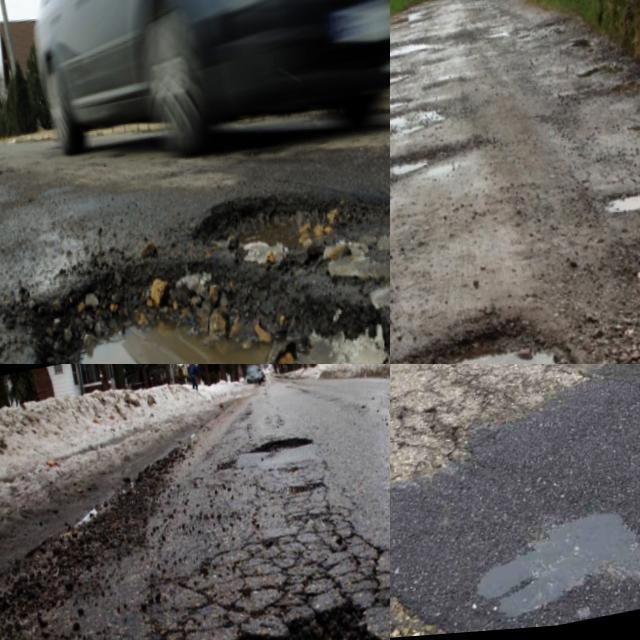Potholes: (0, 206, 390, 364), (133, 532, 390, 640), (505, 364, 640, 482), (390, 301, 594, 364), (390, 15, 472, 117), (241, 408, 329, 497), (390, 121, 455, 204), (585, 170, 640, 266), (569, 45, 640, 116), (511, 0, 574, 51)
